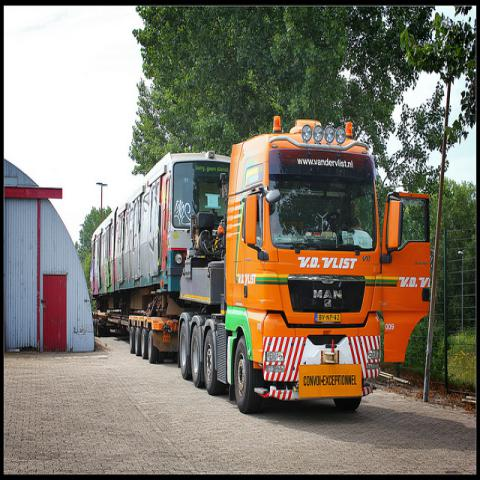bus: (88, 152, 230, 298)
truck: (89, 114, 431, 419)
